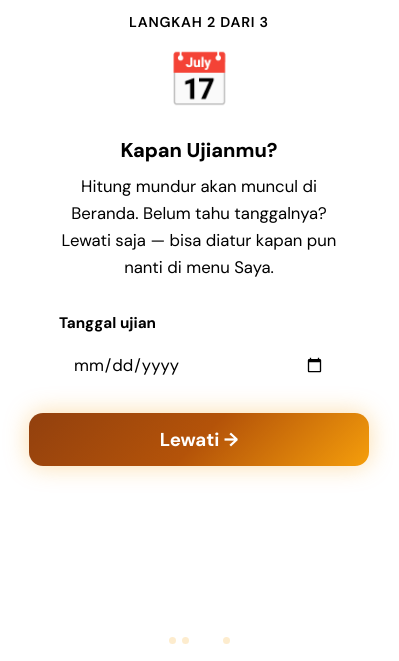
Scenario: Onboarding — exam-date step (item 24) › setting a date changes the button label and carries the date through to onComplete
Later steps or results of the test are not shown.
Type "2026-12-01" into the date field labelled "Tanggal ujian". click: (199, 365)
box: [59,341,339,389]
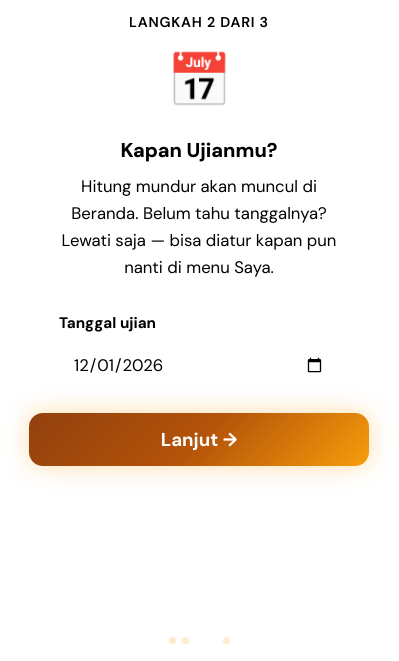
expect the button "Lanjut →" is shown: met, box [29,413,369,466]
